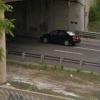Car: (36, 24, 89, 47)
